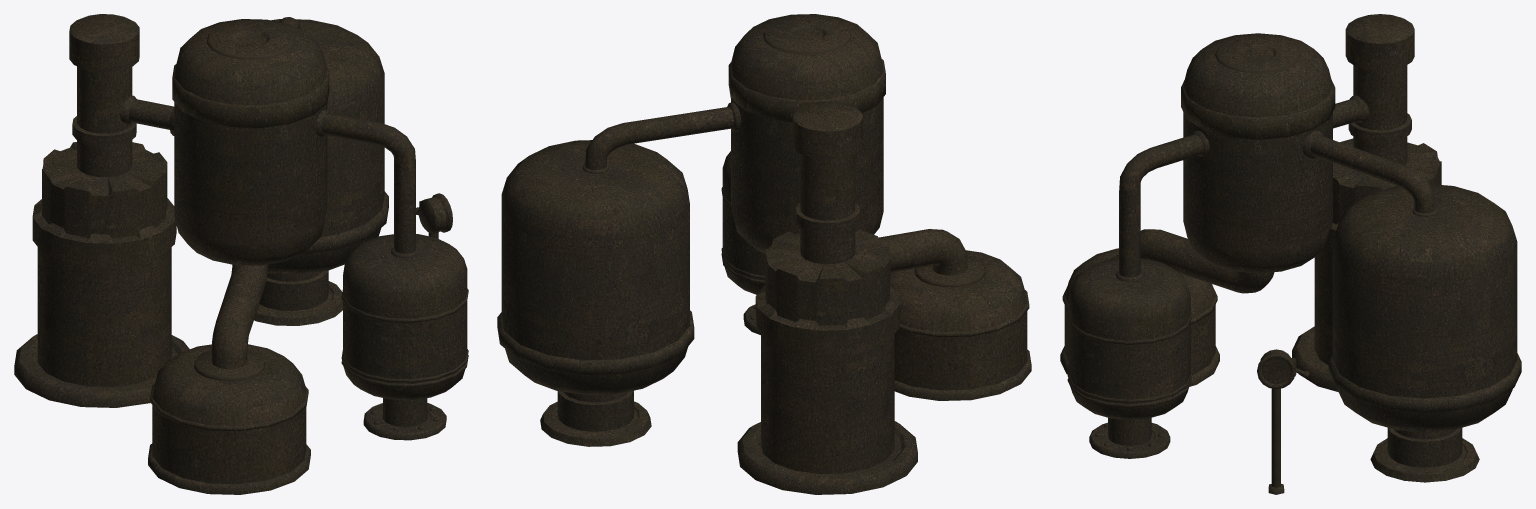
The model's file is tank_system_mx_1.glb.
3 renders of one model, left to right at view 1: azimuth 30°, elevation 25°; view 2: azimuth 150°, elevation 25°; view 3: azimuth 270°, elevation 25°, orthographic. The views are drawn at different scales.
Parts seen in each view (by area): view 1: tank_system_mx_1; view 2: tank_system_mx_1; view 3: tank_system_mx_1.
Boxes of the visible parts, x1,y1,x2,y2 form: tank_system_mx_1: (14,14,468,494); tank_system_mx_1: (497,14,1031,494); tank_system_mx_1: (1060,14,1521,494).
Size of the model in its own units: 2.61 by 2.39 by 2.87.
Materials: 1 (1 with a texture image).
